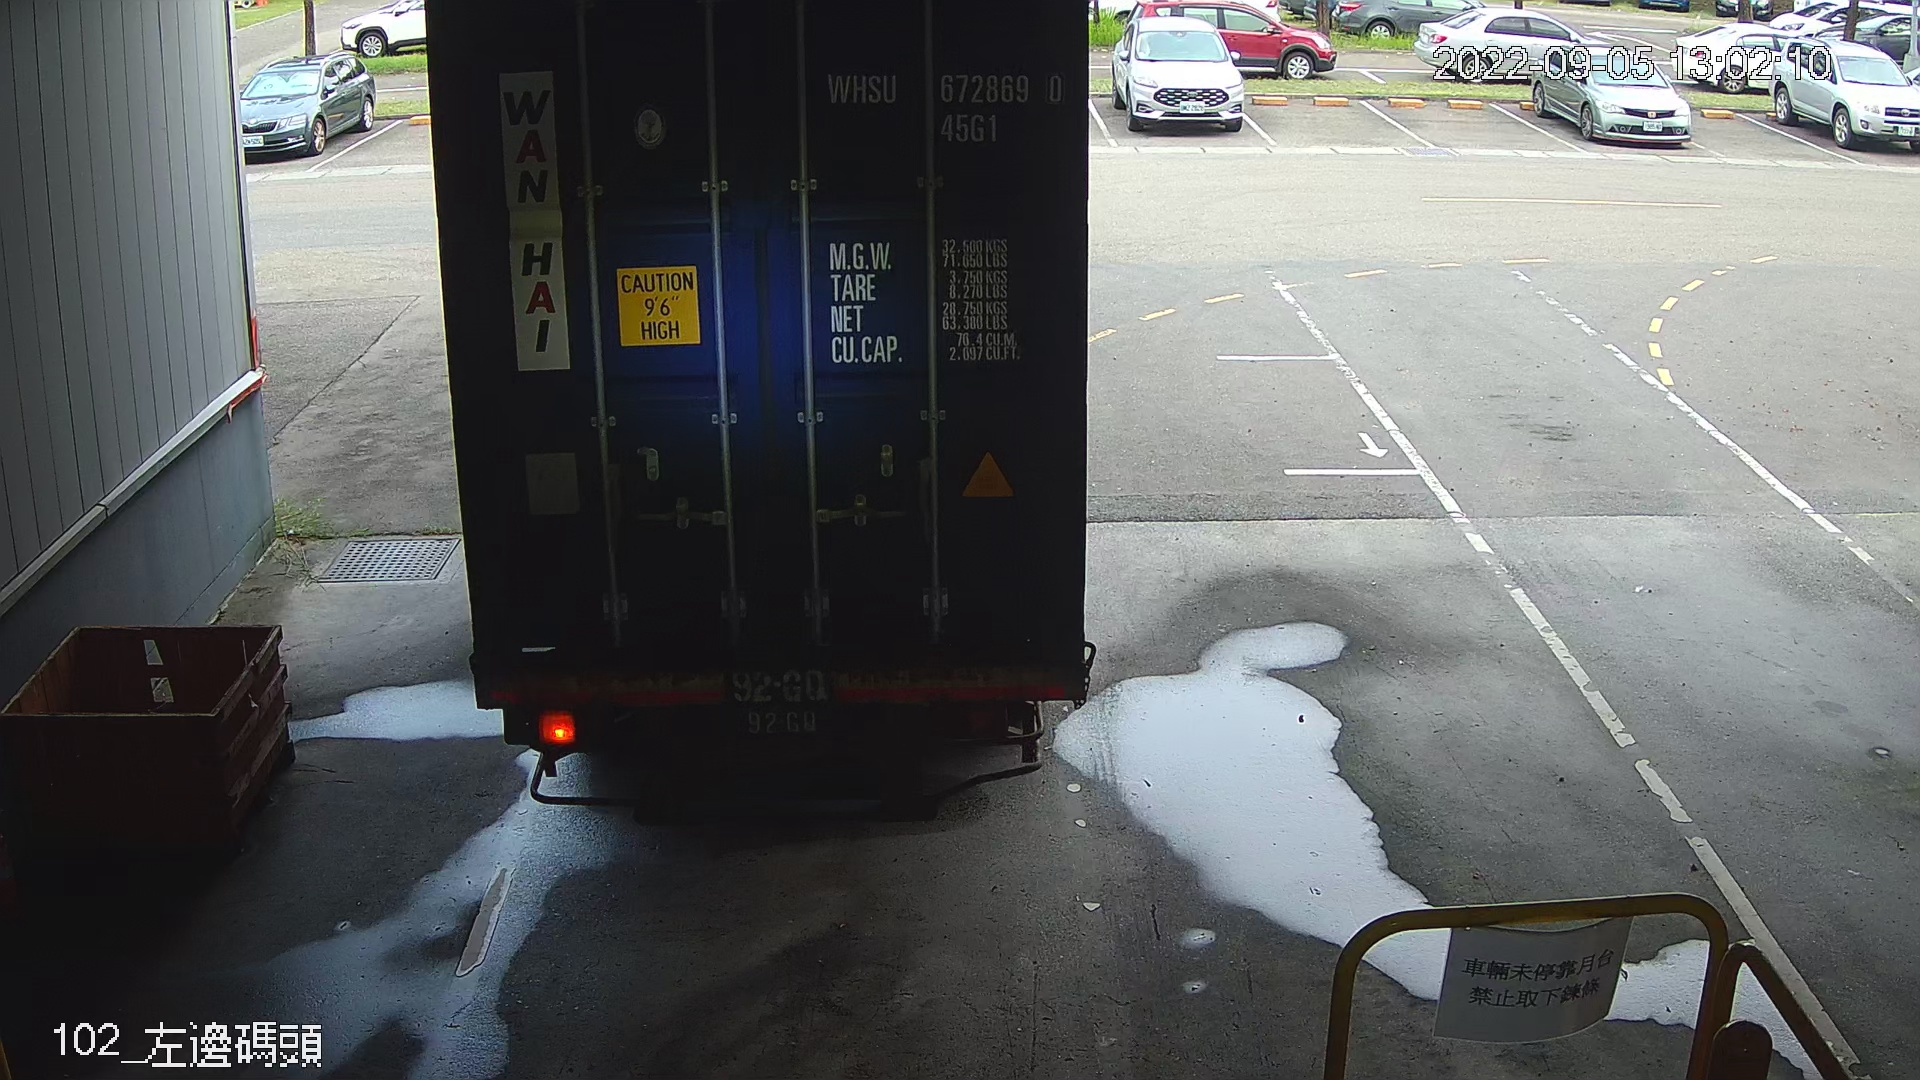container: (814, 58, 1075, 156)
